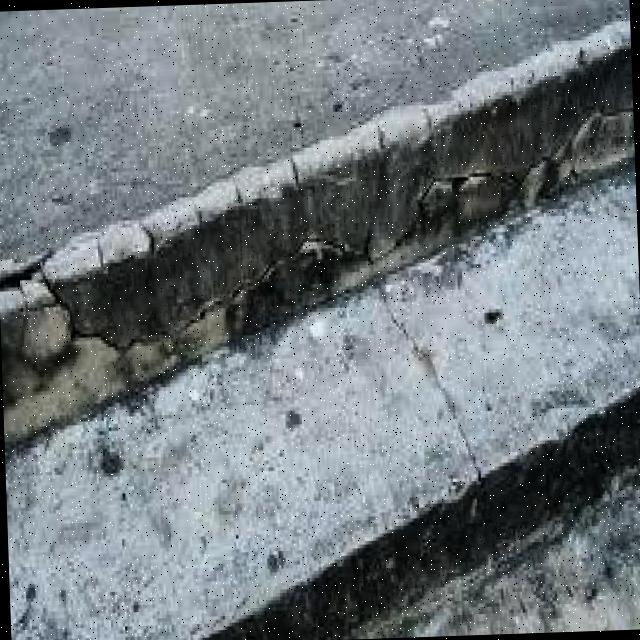curb: (1, 157, 281, 459), (275, 439, 624, 630), (456, 17, 627, 254), (288, 96, 445, 350)
